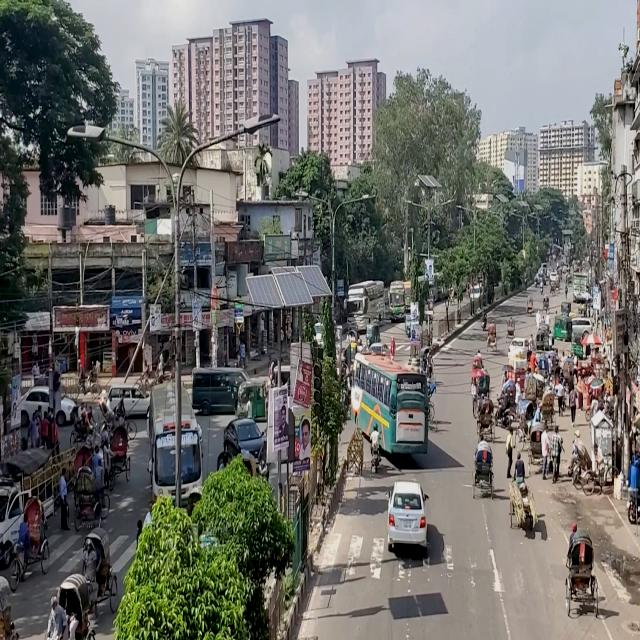black: (190, 370, 253, 418), (222, 419, 266, 467)
white: (388, 483, 426, 552), (13, 388, 76, 429), (104, 385, 152, 418)
